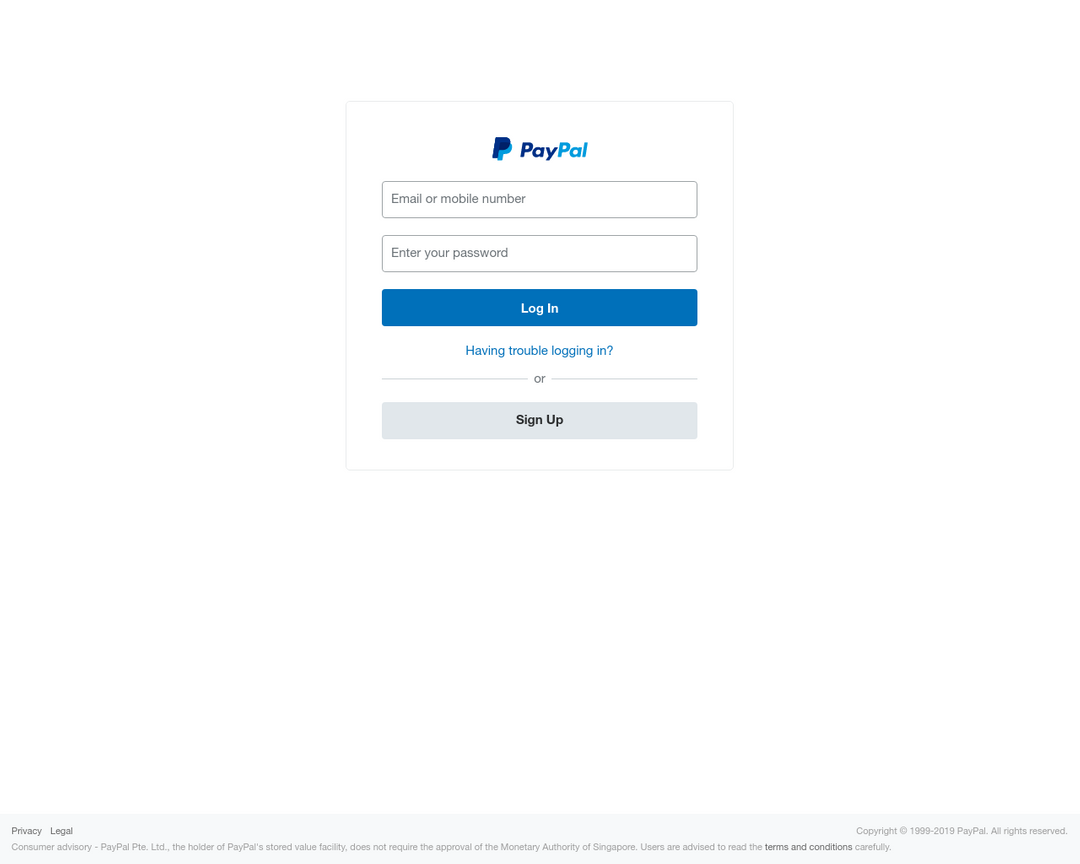Paypal: (487, 133, 592, 168)
